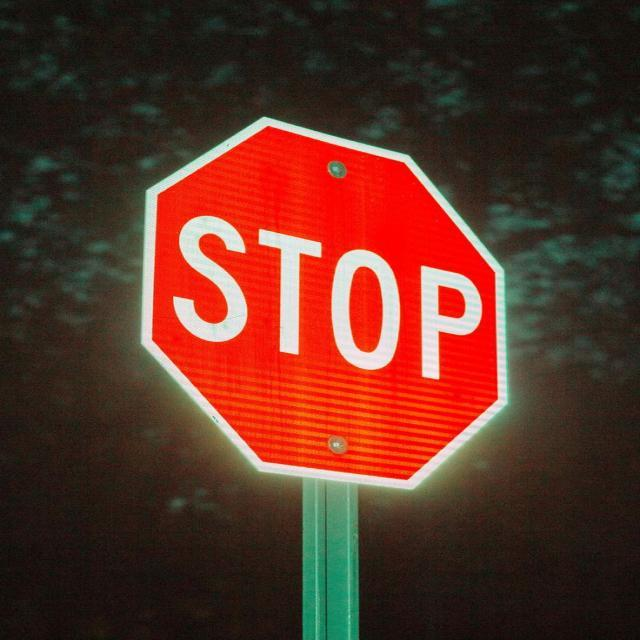stop: (139, 114, 509, 491)
